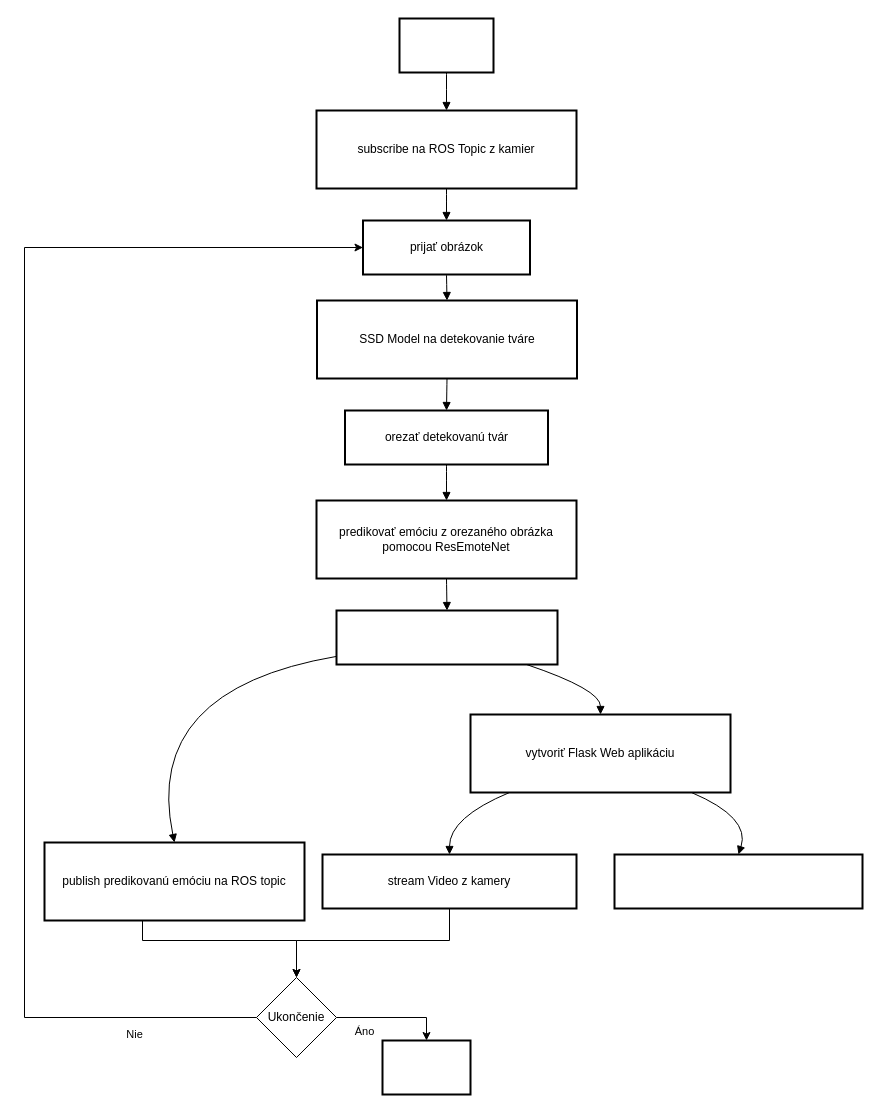
Some shapes in this 881 by 1112 pixel diagram are drawn without their labels. Here are the shapes that lost their labels. From the top down, the centre of each, then its label:
At (446,45): "štart".
At (446,637): "získať predikovanú emóciu".
At (738,881): "vypísať predikovánu emóciu".
At (426,1067): "Koniec".
